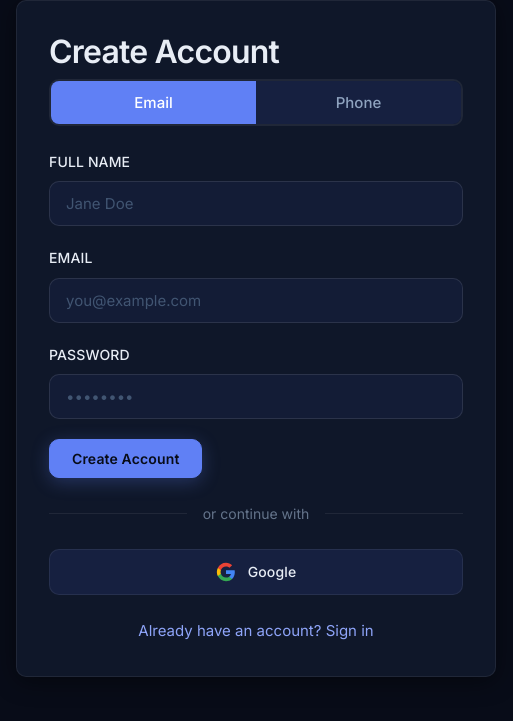
Scenario: Signup Mode › form validation › shows error for short full name
The image size is (513, 721).
Type "A" into the field labelled "Full Name" at (256, 204), box [49,182,463,226]
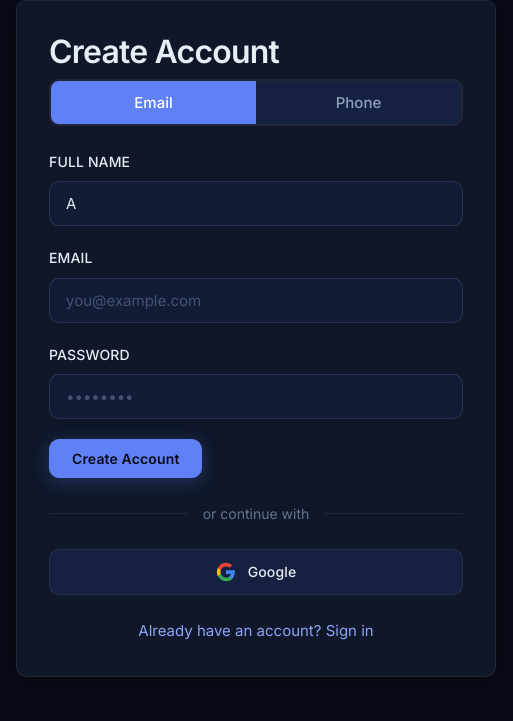
Type "user@example.com" into the field labelled "Email" at (256, 300), box [49,278,463,323]
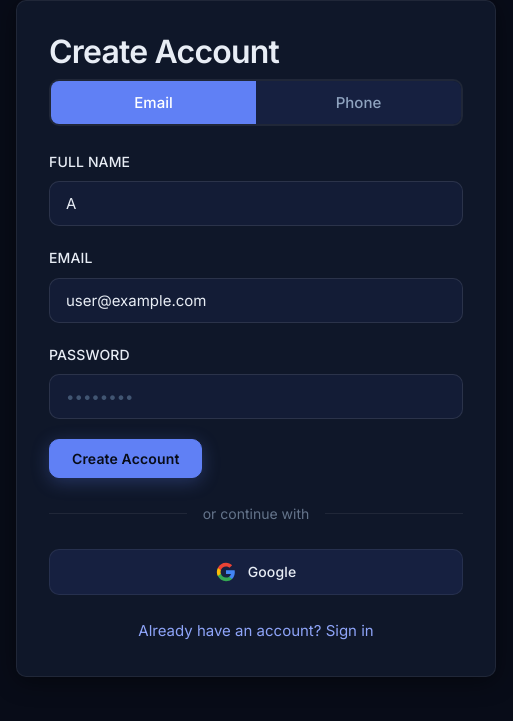
Type "password1" into the password field labelled "Password" at (256, 396), box [49,374,463,419]
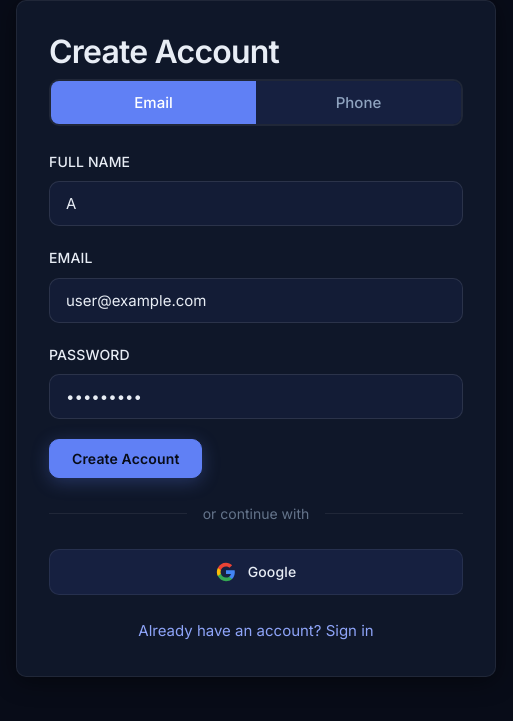
Click the button "Create Account" at (126, 458), box [49,439,202,478]
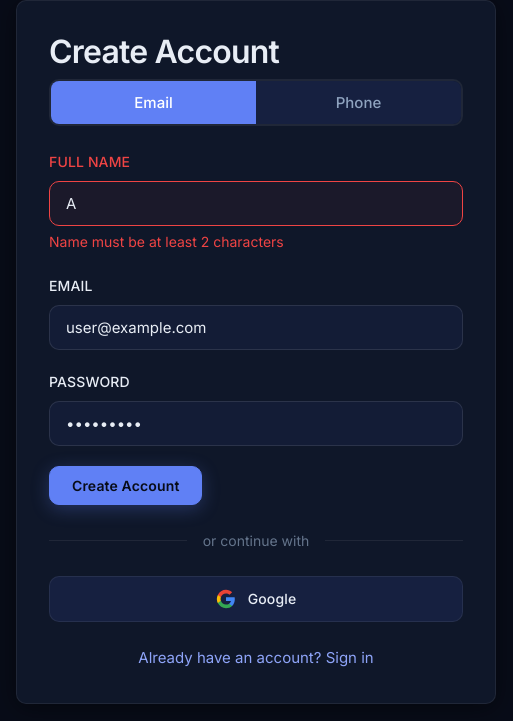
Expected: the text "Name must be at least 2 characters" is shown, [49,234,284,250]
